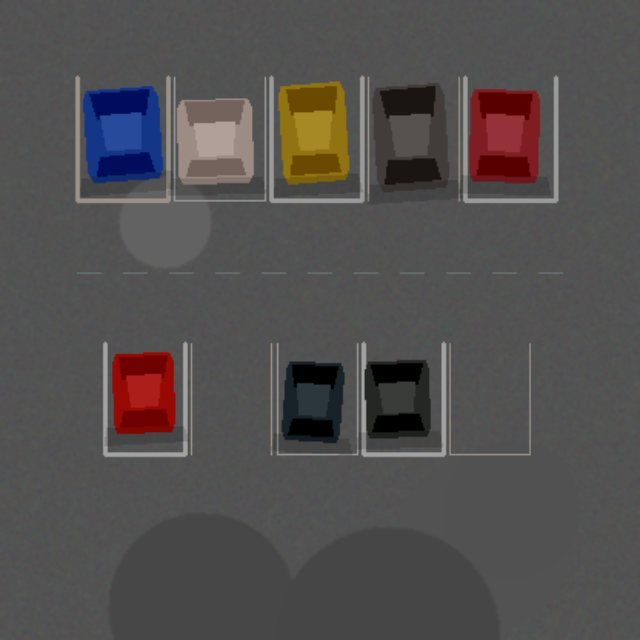space-empty: (191, 343, 271, 454), (449, 343, 529, 454)
space-occupied: (77, 77, 168, 200), (174, 77, 265, 200), (271, 77, 362, 200), (368, 77, 458, 200), (465, 77, 555, 200), (105, 343, 185, 454), (277, 343, 357, 454), (363, 343, 443, 454)
